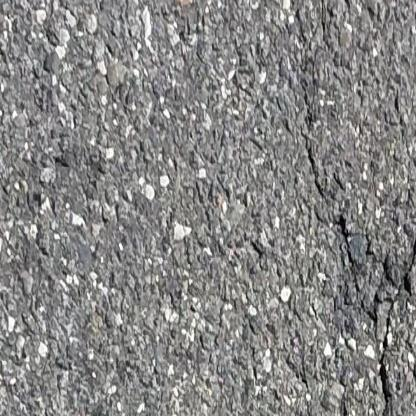Cracks: (357, 297, 395, 416), (362, 229, 416, 303), (302, 142, 329, 204), (335, 213, 359, 273)
